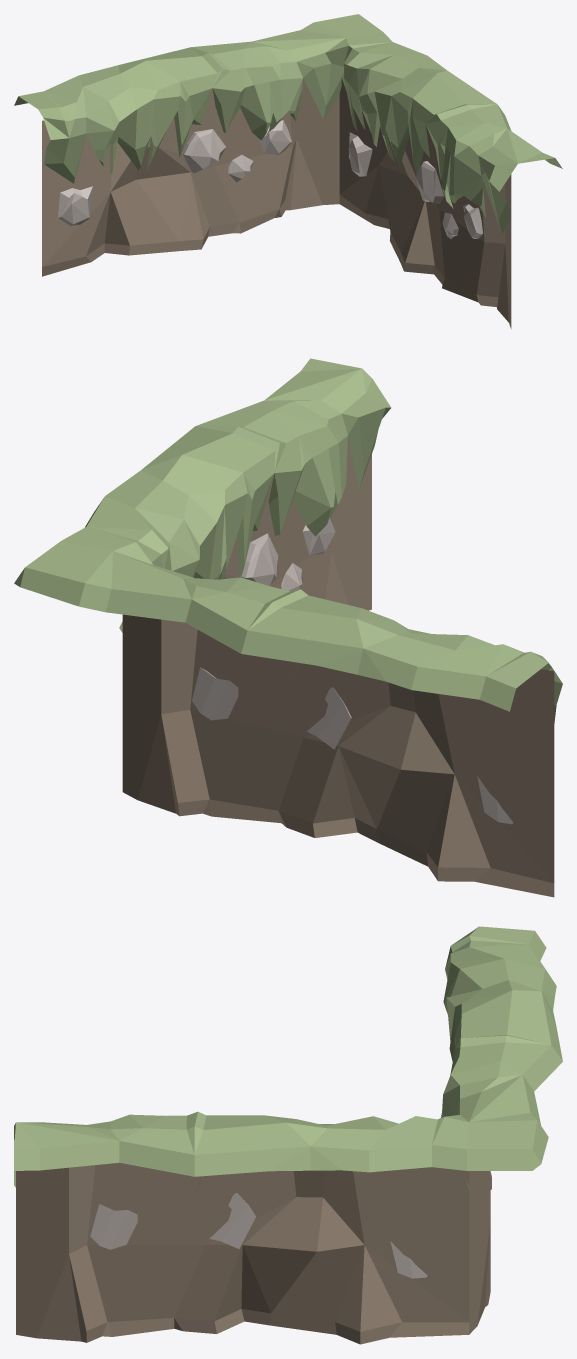
Rendered from ER_Terrain_1x1_GrassCorner_Inverted_Halfsize_001_A3.fbx.
3 views of the same model, one above another, from view 1: azimuth 30°, elevation 25°; view 2: azimuth 150°, elevation 25°; view 3: azimuth 270°, elevation 25° (orthographic). The views are drawn at different scales.
Parts seen in each view (by area): view 1: ER_Terrain_1x1_GrassCorner_Inverted_Halfsize_001_A3; view 2: ER_Terrain_1x1_GrassCorner_Inverted_Halfsize_001_A3; view 3: ER_Terrain_1x1_GrassCorner_Inverted_Halfsize_001_A3.
Part boxes in pixels (x1,y1,x2,y2): ER_Terrain_1x1_GrassCorner_Inverted_Halfsize_001_A3: (14,14,562,328); ER_Terrain_1x1_GrassCorner_Inverted_Halfsize_001_A3: (14,358,562,897); ER_Terrain_1x1_GrassCorner_Inverted_Halfsize_001_A3: (14,926,562,1344).
Bounding box in the file's own units: 1.21 × 0.5611 × 1.21.
